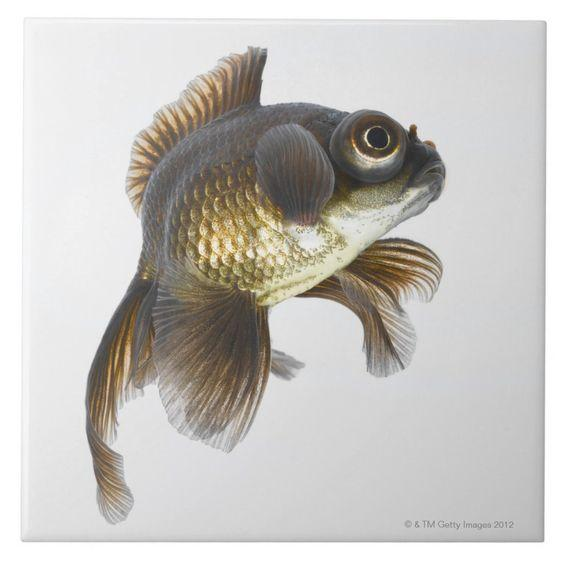goldfish: (89, 72, 482, 421)
